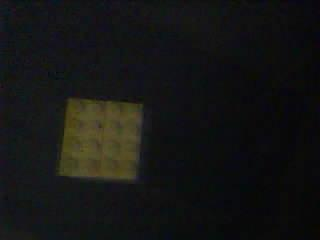lego: (57, 97, 143, 182)
